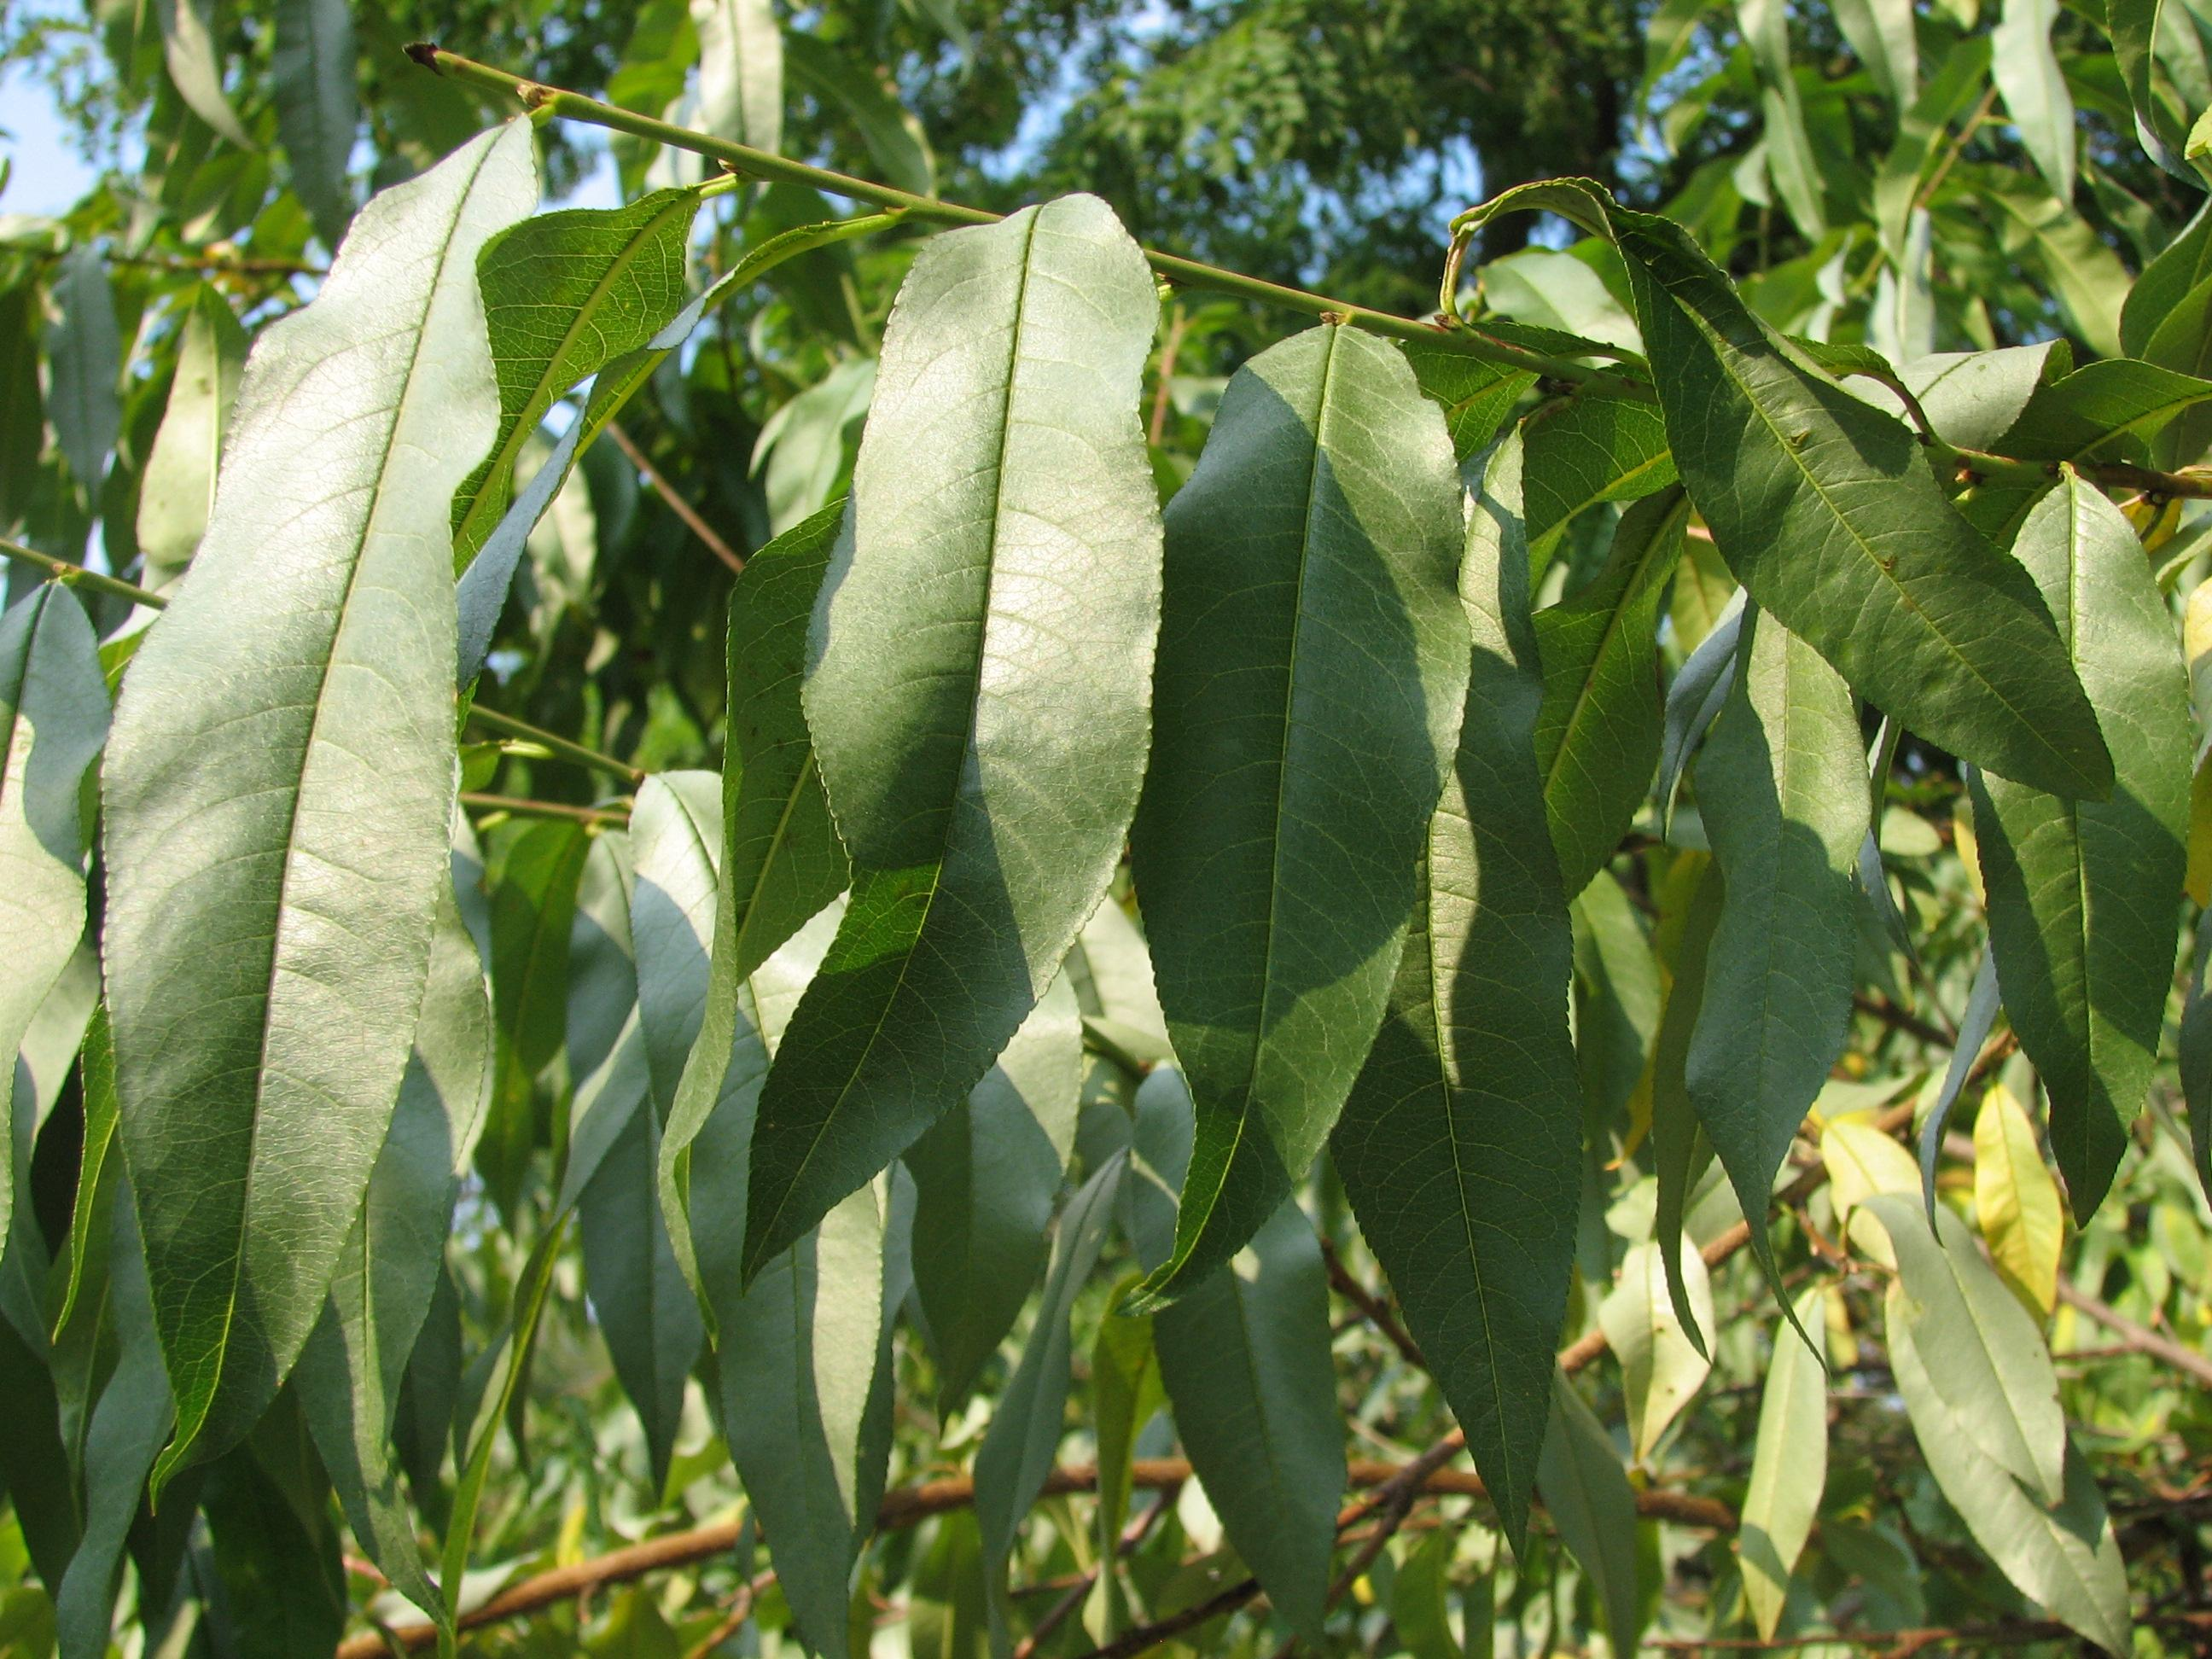Peach leaf: (110, 101, 549, 1546), (740, 183, 1167, 1300), (1120, 317, 1474, 1337), (1327, 674, 1583, 1563), (1665, 589, 1872, 1356), (1984, 486, 2188, 1223)
